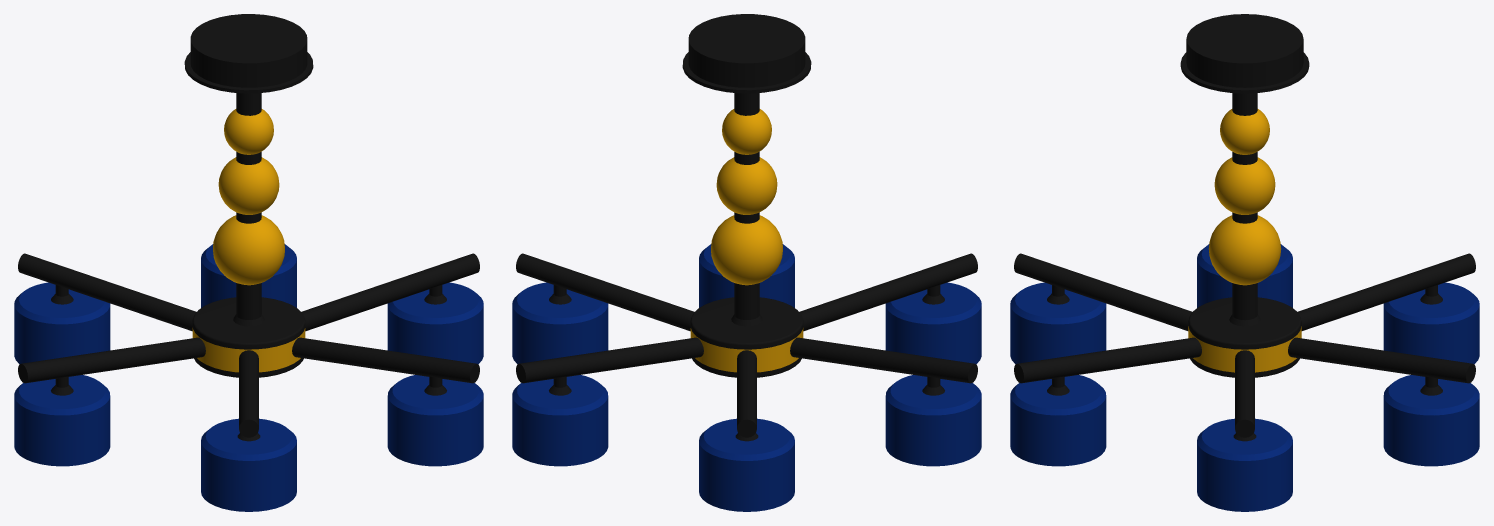
File: Lustra.fbx
3 views of the same model, side by side, from view 1: azimuth 30°, elevation 25°; view 2: azimuth 150°, elevation 25°; view 3: azimuth 270°, elevation 25° (orthographic).
Parts seen in each view (by area): view 1: Lustra_korpus; view 2: Lustra_korpus; view 3: Lustra_korpus.
Boxes of the visible parts, box(x1,y1,x2,y2) form: Lustra_korpus: box(14, 14, 483, 511); Lustra_korpus: box(512, 14, 981, 511); Lustra_korpus: box(1010, 14, 1479, 511).
Bounding box in the file's own units: 66.85 × 50.61 × 59.5.
